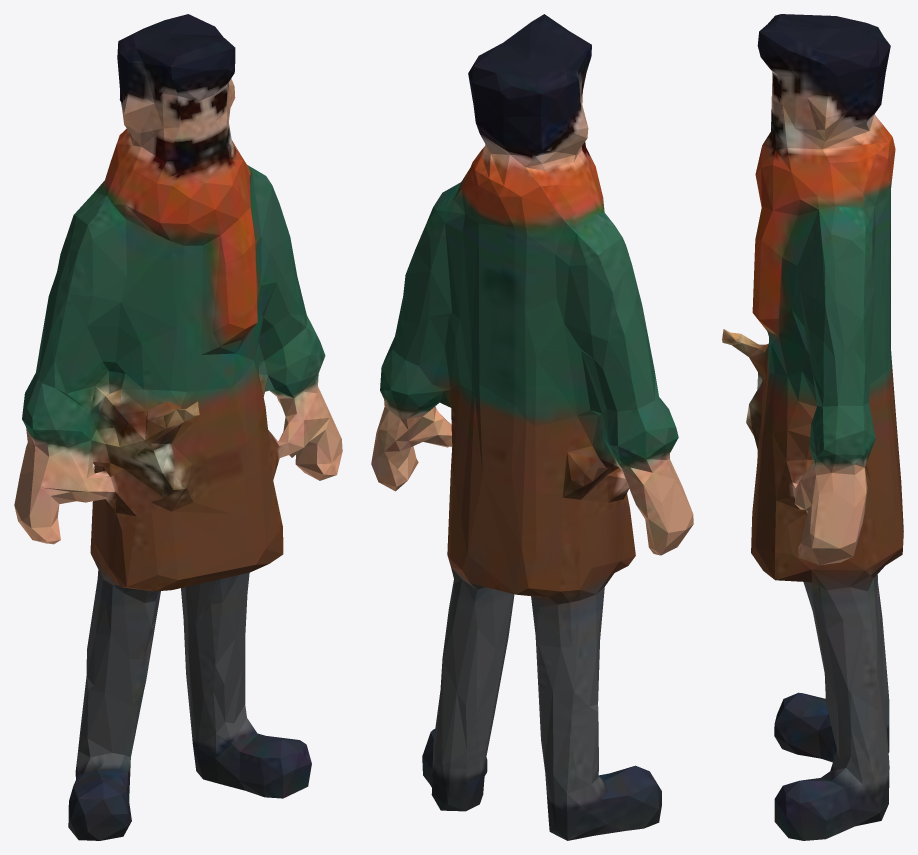
Rendered from habitant-loin.glb.
3 renders of one model, left to right at view 1: azimuth 30°, elevation 25°; view 2: azimuth 150°, elevation 25°; view 3: azimuth 270°, elevation 25°, orthographic.
Visible parts, largest first — view 1: habitant; view 2: habitant; view 3: habitant.
Boxes of the visible parts, <box> form: habitant: <box>14,14,342,840</box>; habitant: <box>371,14,693,840</box>; habitant: <box>722,14,903,840</box>.
Size of the model in its own units: 0.424 by 1.01 by 0.2152.
1 material, 1 textured.
